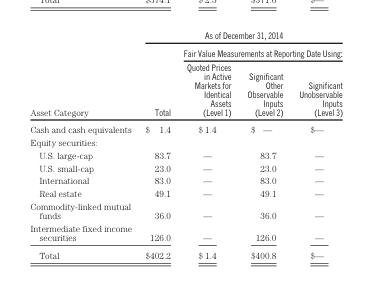table: (29, 29, 341, 259)
table column: (29, 29, 137, 259), (176, 29, 238, 259), (238, 29, 290, 259), (290, 29, 341, 259), (137, 29, 176, 259)
table column header: (29, 29, 341, 120)
table projected row header: (29, 135, 341, 148)
table row: (29, 59, 341, 120), (29, 221, 341, 245), (29, 199, 341, 221), (29, 43, 341, 59), (29, 120, 341, 135), (29, 29, 341, 43), (29, 245, 341, 259), (29, 135, 341, 148), (29, 148, 341, 161), (29, 173, 341, 186), (29, 186, 341, 199), (29, 161, 341, 173)
table spanning cell: (29, 29, 137, 120), (137, 43, 176, 120), (137, 29, 341, 43), (176, 43, 341, 59)
